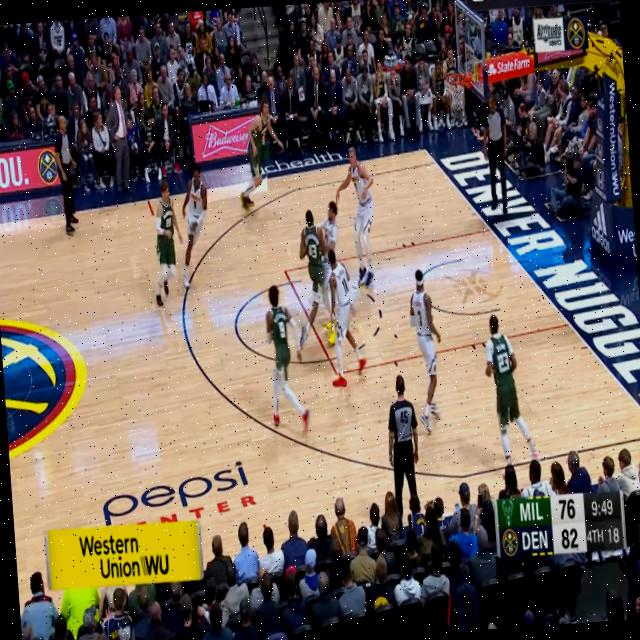Foul: (307, 192, 346, 298)
